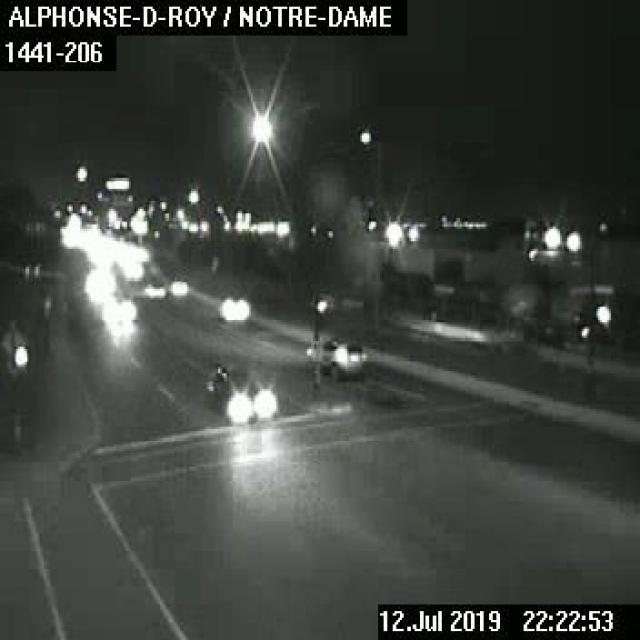vehicle: (203, 362, 274, 422), (298, 332, 366, 378), (100, 295, 139, 327), (216, 292, 252, 323), (165, 277, 190, 298), (144, 280, 167, 297)
